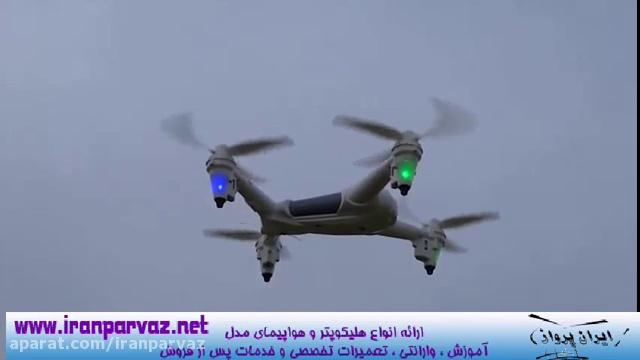drone: (154, 91, 504, 286)
